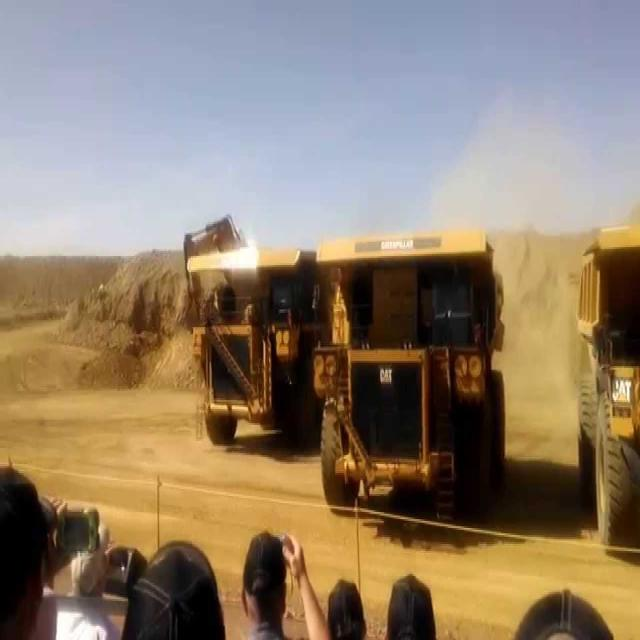dump_truck: (312, 204, 522, 536), (188, 229, 312, 463), (576, 192, 640, 571)
